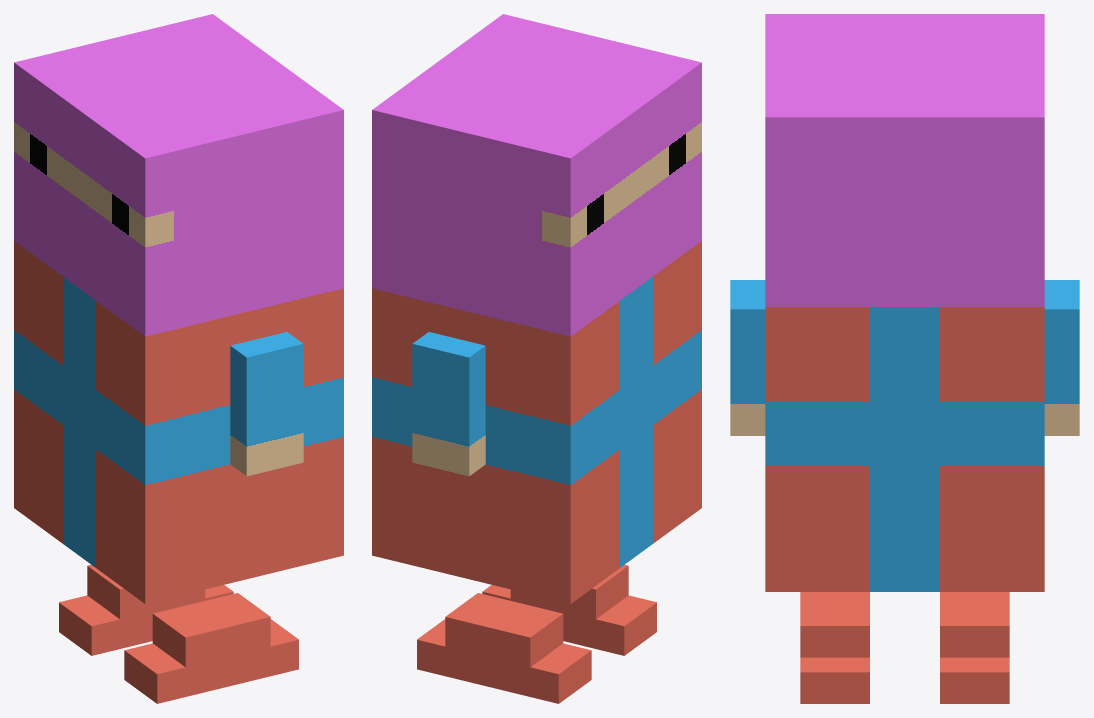
Rendered from Player_29.fbx.
3 views of the same model, side by side, from view 1: azimuth 30°, elevation 25°; view 2: azimuth 150°, elevation 25°; view 3: azimuth 270°, elevation 25° (orthographic). The views are drawn at different scales.
Visible parts, largest first — view 1: Main, LeftFoot, LeftHand, RightFoot; view 2: Main, RightFoot, RightHand, LeftFoot; view 3: Main, LeftFoot, RightFoot, RightHand, LeftHand.
Boxes of the visible parts, x1,y1,x2,y2 form: Main: (14,14,343,603); LeftFoot: (124,593,298,703); LeftHand: (230,332,303,476); RightFoot: (59,564,233,655); Main: (372,14,701,603); RightFoot: (417,593,591,703); RightHand: (412,332,485,476); LeftFoot: (482,564,656,655); Main: (765,14,1044,591); LeftFoot: (800,592,869,703); RightFoot: (940,592,1009,703); RightHand: (1044,280,1079,435); LeftHand: (730,280,765,435).
Size of the model in its own units: 7 by 19 by 10.
Materials: 1 (1 with a texture image).
